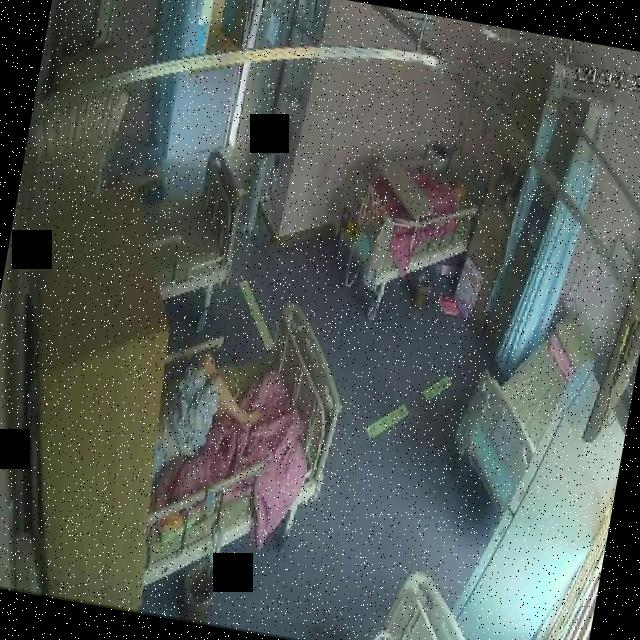bed: (132, 290, 350, 581), (445, 286, 597, 496), (324, 120, 491, 294), (132, 137, 252, 307)
lie: (147, 344, 275, 487)
patient: (145, 341, 275, 488), (435, 167, 471, 210)
